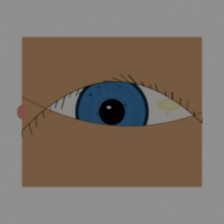pinguecula_lesion: (145, 86, 193, 124)
